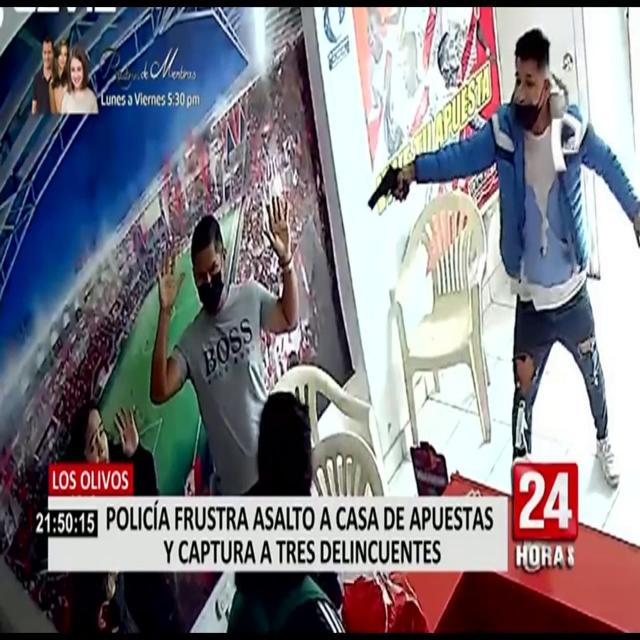gun: (362, 136, 410, 226)
